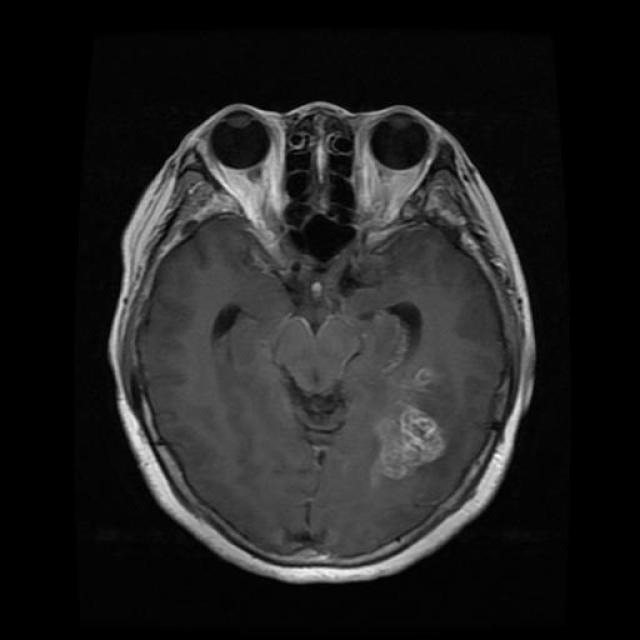brain_tumor: (375, 404, 446, 479)
